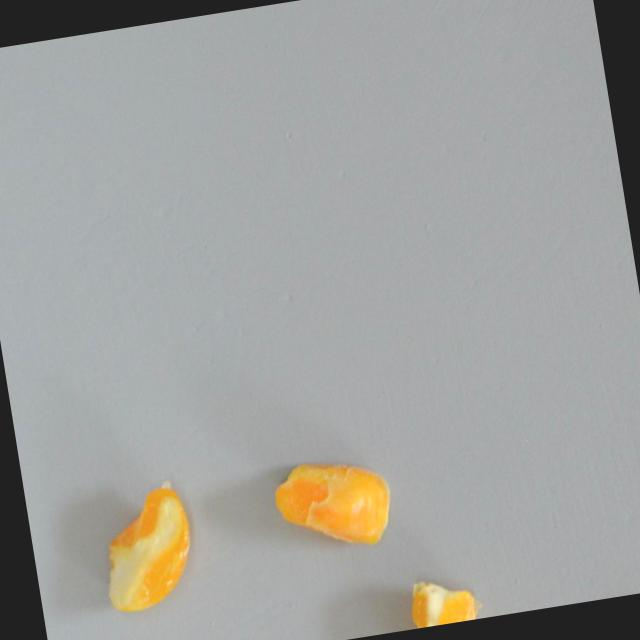pelicula: (84, 465, 211, 638), (267, 446, 399, 561), (398, 564, 484, 630)
